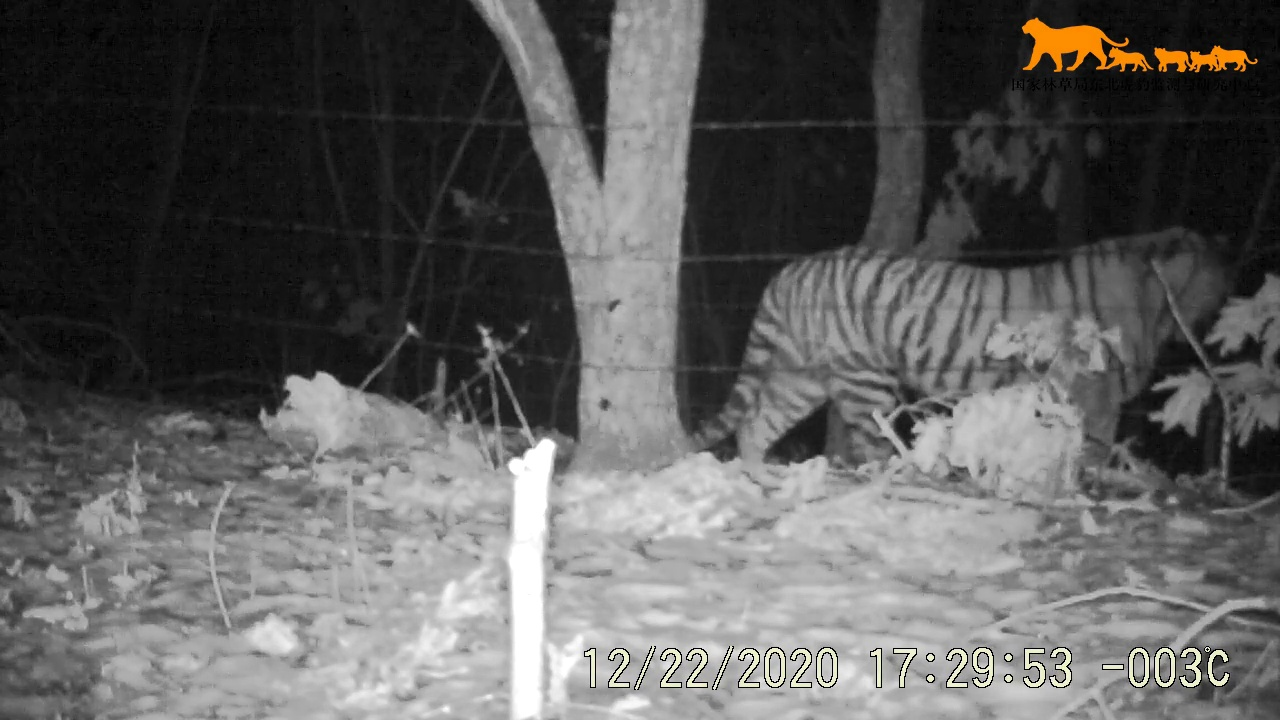Tiger: (674, 115, 1280, 540)
